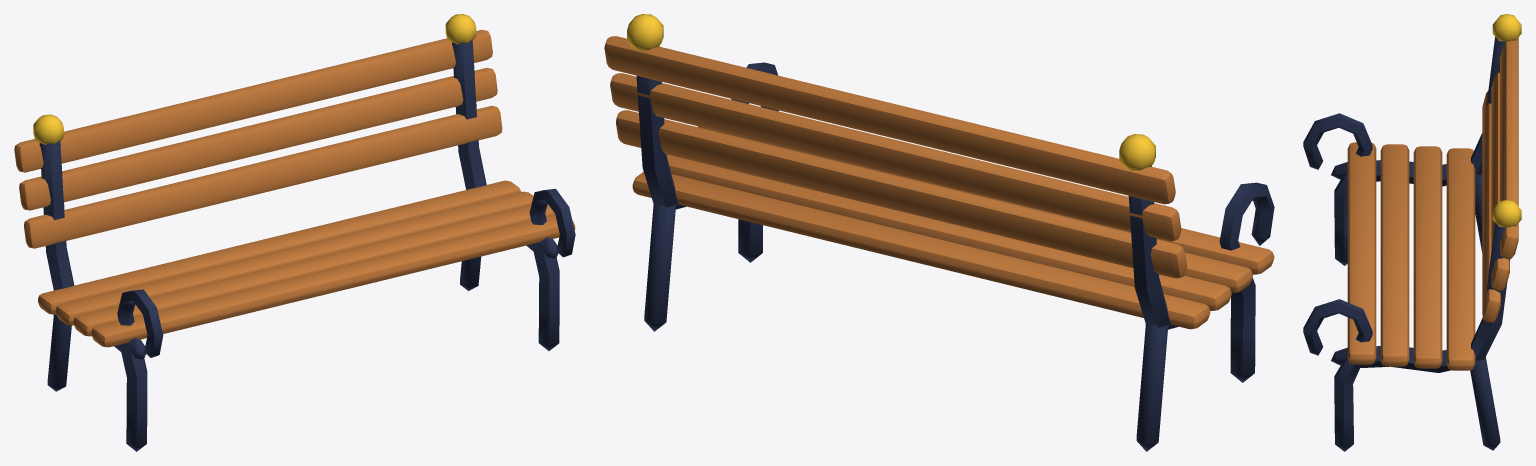
The model's file is W1_Bench_A.fbx.
3 views of the same model, side by side, from view 1: azimuth 30°, elevation 25°; view 2: azimuth 150°, elevation 25°; view 3: azimuth 270°, elevation 25° (orthographic). The views are drawn at different scales.
Visible parts, largest first — view 1: W1_Bench_A; view 2: W1_Bench_A; view 3: W1_Bench_A.
Part boxes in pixels (x1=…): W1_Bench_A: x1=14, y1=14, x2=575, y2=451; W1_Bench_A: x1=604, y1=14, x2=1274, y2=451; W1_Bench_A: x1=1303, y1=14, x2=1521, y2=451.
Bounding box in the file's own units: 2.3 × 1.26 × 0.9944.
